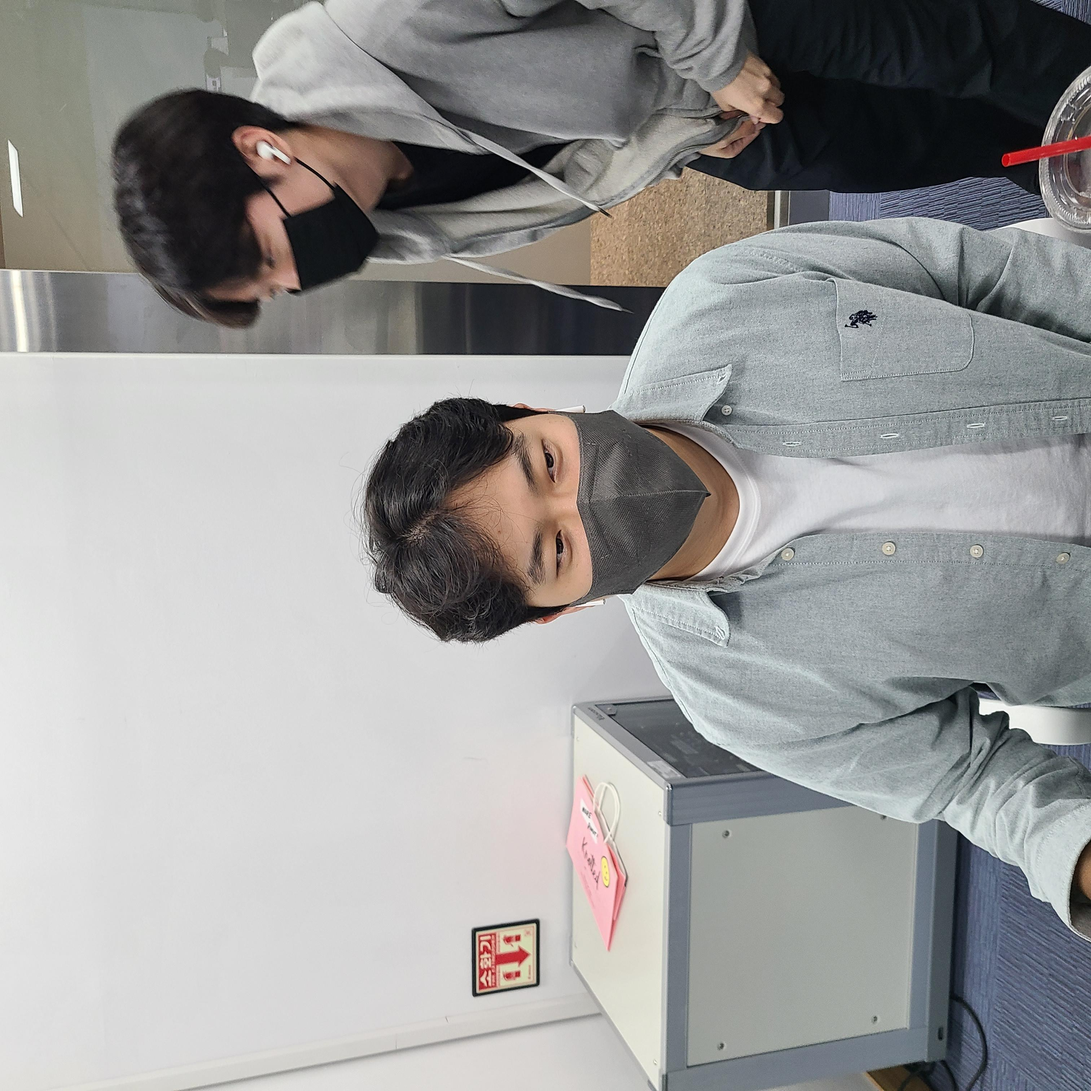earphone: (922, 255, 956, 294), (477, 561, 500, 610)
